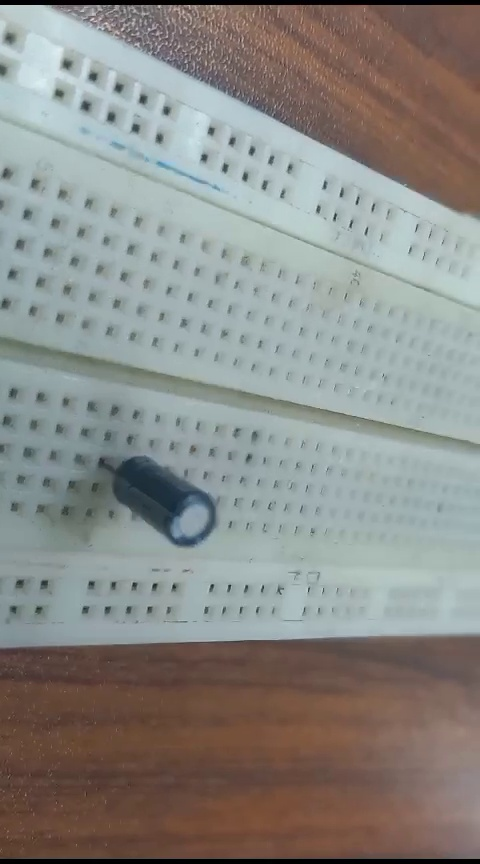capacitor: (90, 435, 222, 561)
